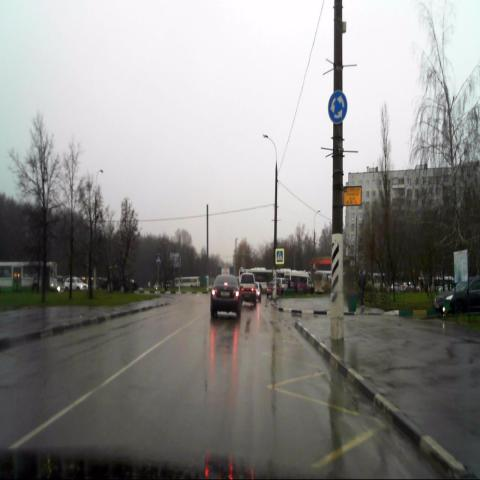4_3: (328, 91, 348, 123)
